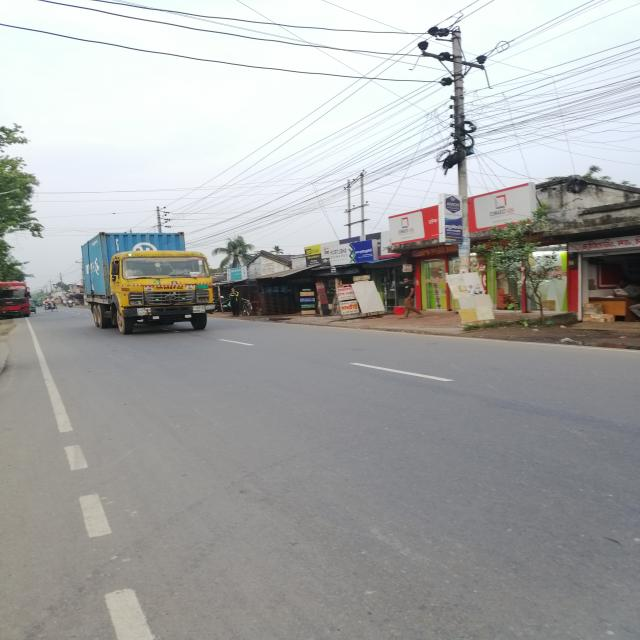Truck: (68, 224, 233, 345)
